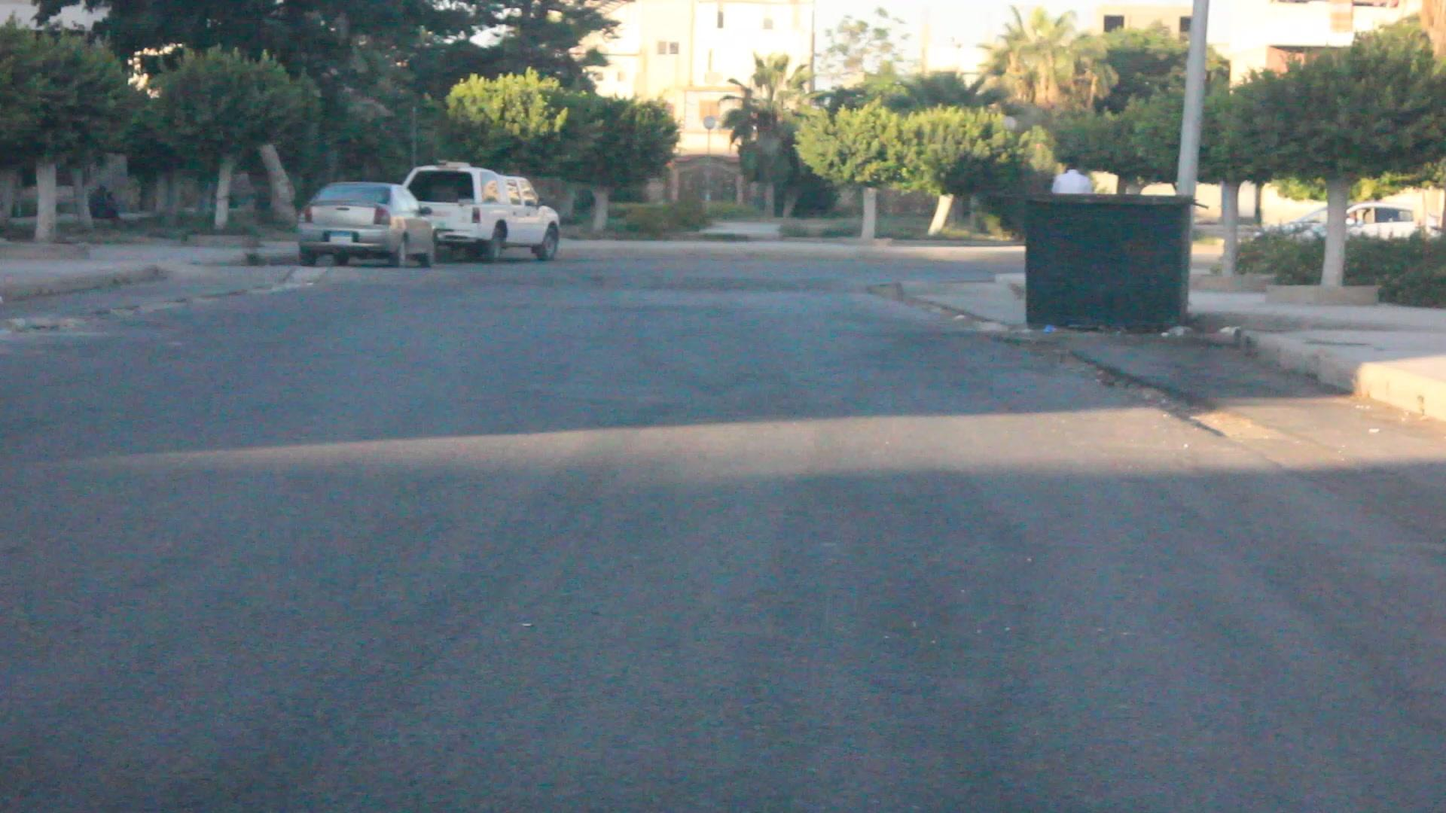Bump: (294, 250, 964, 307)
